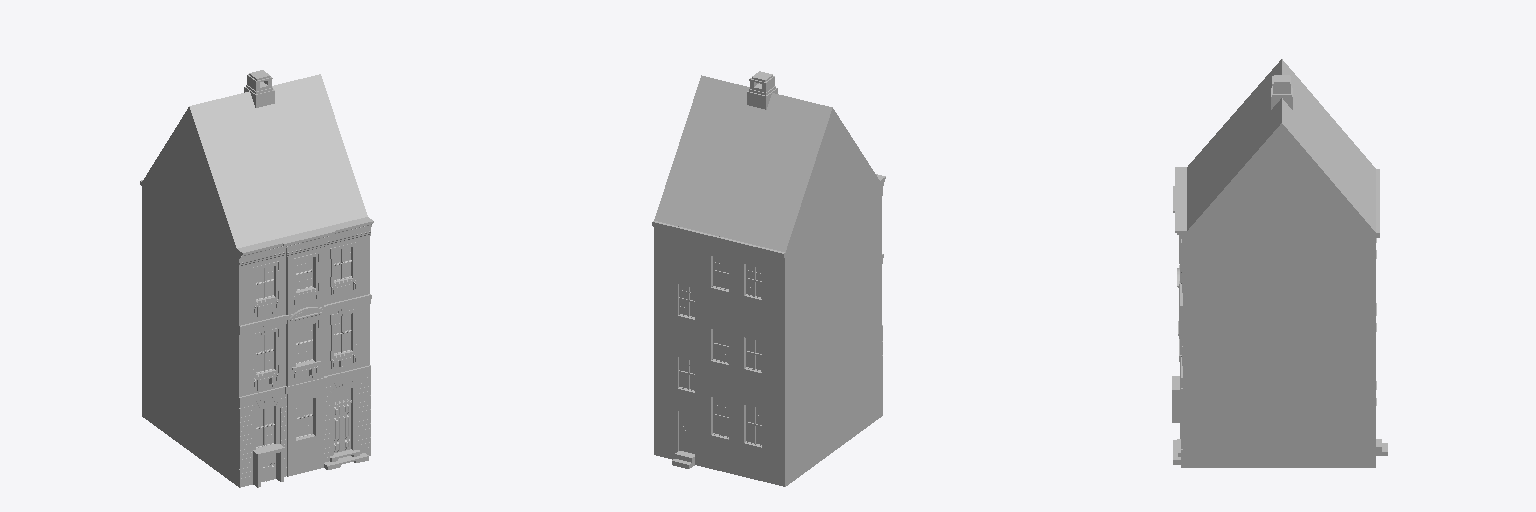
File: JöDENSTRASSE_31.obj
3 views of the same model, side by side, from view 1: azimuth 30°, elevation 25°; view 2: azimuth 150°, elevation 25°; view 3: azimuth 270°, elevation 25° (orthographic).
Parts seen in each view (by area): view 1: WALL_outside, ROOF, WALL, WALL_BOSSE, CORNICE, WINDOW_GLAS, WALL_FRAME_2, WINDOW_FRAME, BOARDS, DOOR_2, WALL_FRAME, CHIMNEY; view 2: WALL_outside, ROOF, WINDOWS_BACK_GLAS, WINDOWS_BACK_FRAME, CHIMNEY, CORNICE_BACK; view 3: WALL_outside, ROOF, WALL, BOARDS, CHIMNEY.
Part boxes in pixels (left/top/right/bottom): WALL_outside: left=142, top=110, right=236, bottom=485; ROOF: left=142, top=74, right=367, bottom=251; WALL: left=237, top=236, right=369, bottom=487; WALL_BOSSE: left=239, top=300, right=370, bottom=487; CORNICE: left=239, top=221, right=373, bottom=404; WINDOW_GLAS: left=256, top=247, right=350, bottom=446; WALL_FRAME_2: left=253, top=242, right=356, bottom=379; WINDOW_FRAME: left=256, top=249, right=351, bottom=447; BOARDS: left=237, top=217, right=372, bottom=453; DOOR_2: left=334, top=388, right=351, bottom=452; WALL_FRAME: left=254, top=282, right=355, bottom=390; CHIMNEY: left=244, top=70, right=274, bottom=107; WALL_outside: left=654, top=112, right=879, bottom=486; ROOF: left=654, top=75, right=879, bottom=252; WINDOWS_BACK_GLAS: left=680, top=257, right=761, bottom=444; WINDOWS_BACK_FRAME: left=679, top=257, right=761, bottom=445; CHIMNEY: left=747, top=71, right=777, bottom=109; CORNICE_BACK: left=652, top=221, right=785, bottom=257; WALL_outside: left=1187, top=127, right=1375, bottom=467; ROOF: left=1187, top=59, right=1375, bottom=235; WALL: left=1172, top=231, right=1186, bottom=467; BOARDS: left=1172, top=167, right=1186, bottom=389; CHIMNEY: left=1271, top=75, right=1292, bottom=109.
Bounding box in the file's own units: 764 × 1993 × 1089.